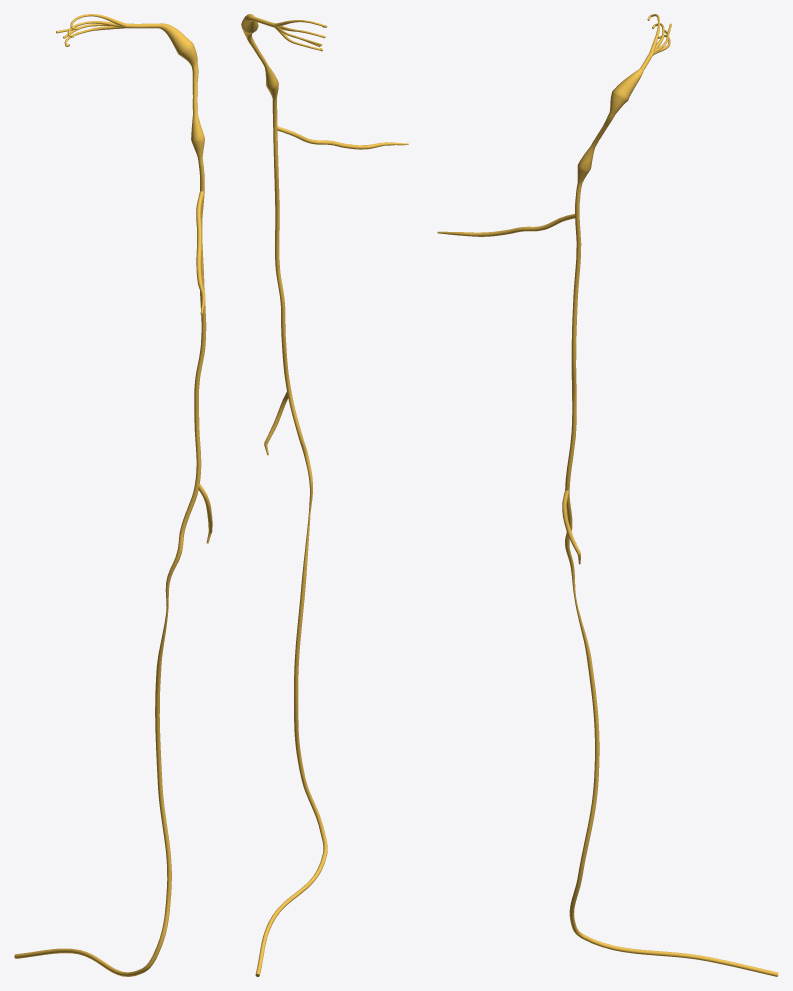
The model's file is nervoso-vagus-nerve-x-l.glb.
3 renders of one model, left to right at view 1: azimuth 30°, elevation 25°; view 2: azimuth 150°, elevation 25°; view 3: azimuth 270°, elevation 25°, orthographic. The views are drawn at different scales.
Parts seen in each view (by area): view 1: Vagus nerve (X).l; view 2: Vagus nerve (X).l; view 3: Vagus nerve (X).l.
Part boxes in pixels (x1=…): Vagus nerve (X).l: x1=14, y1=14, x2=212, y2=976; Vagus nerve (X).l: x1=241, y1=14, x2=408, y2=976; Vagus nerve (X).l: x1=437, y1=14, x2=778, y2=976.
Bounding box in the file's own units: 0.0273 × 0.2297 × 0.0739.
